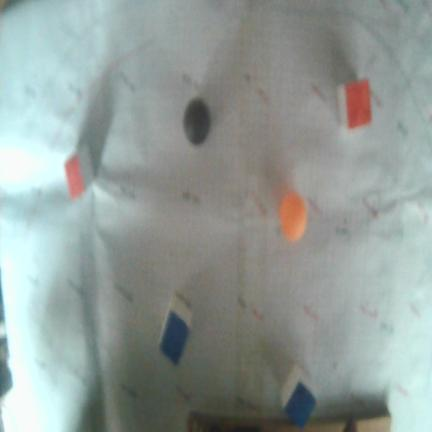circle_blue: (183, 98, 211, 145)
circle_orange: (279, 192, 307, 242)
rectangle_blue: (159, 312, 188, 367)
rectangle_orange: (64, 151, 85, 199)
square_blue: (286, 382, 315, 430)
square_orange: (344, 76, 373, 128)
